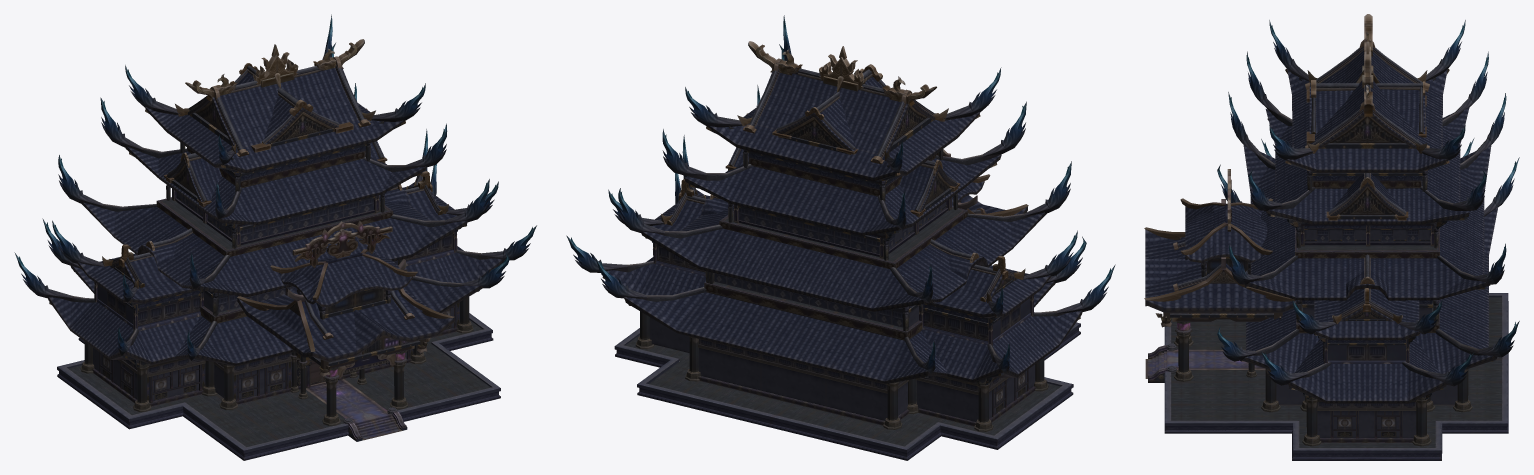
File: 1005_Building_22.FBX
3 renders of one model, left to right at view 1: azimuth 30°, elevation 25°; view 2: azimuth 150°, elevation 25°; view 3: azimuth 270°, elevation 25°, orthographic. The views are drawn at different scales.
Parts seen in each view (by area): view 1: 1005_Building_22; view 2: 1005_Building_22; view 3: 1005_Building_22.
Part boxes in pixels (x1=…): 1005_Building_22: x1=14, y1=14, x2=536, y2=460; 1005_Building_22: x1=566, y1=15, x2=1115, y2=460; 1005_Building_22: x1=1144, y1=14, x2=1519, y2=460.
Bounding box in the file's own units: 7774 × 5540 × 5755.
